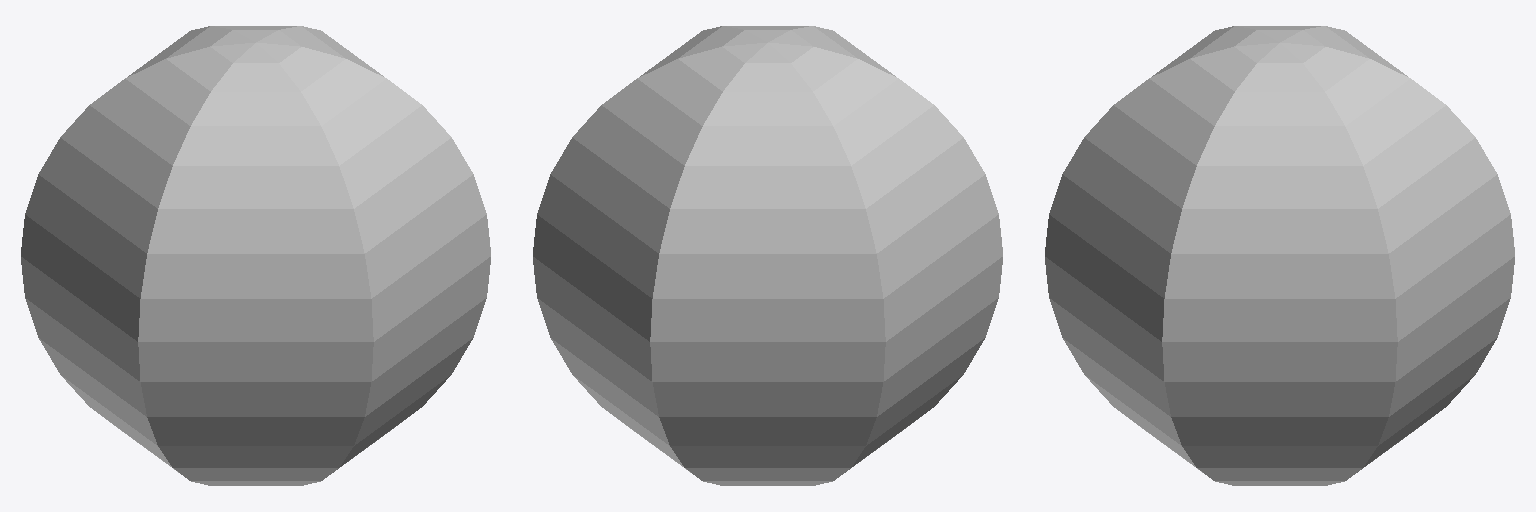
The model's file is particle.obj.
3 renders of one model, left to right at view 1: azimuth 30°, elevation 25°; view 2: azimuth 150°, elevation 25°; view 3: azimuth 270°, elevation 25°, orthographic.
Visible parts, largest first — view 1: Sphere; view 2: Sphere; view 3: Sphere.
Boxes of the visible parts, box(x1,y1,x2,y2) form: Sphere: box(21, 26, 490, 485); Sphere: box(533, 26, 1002, 485); Sphere: box(1045, 26, 1514, 485).
Size of the model in its own units: 0.5163 by 0.5962 by 0.5962.